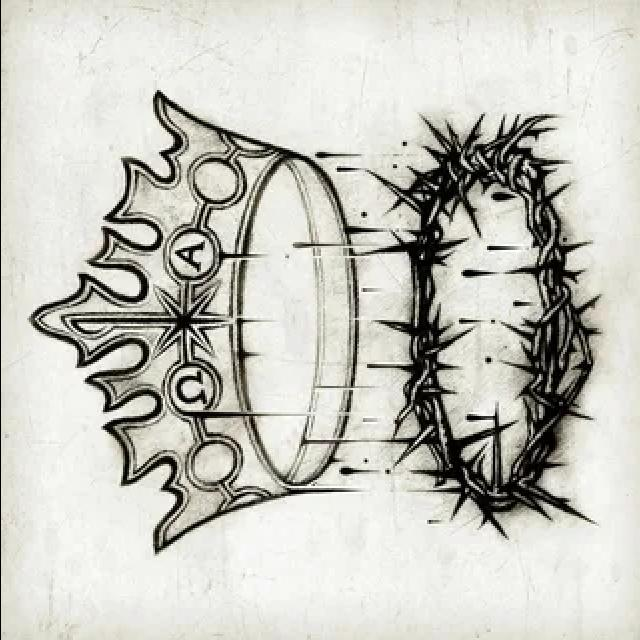crown: (393, 114, 597, 536)
